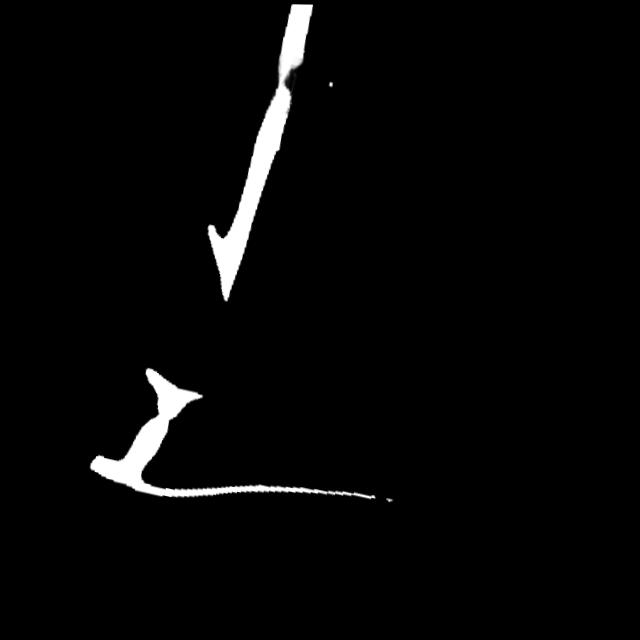sl: (267, 46, 307, 107)
